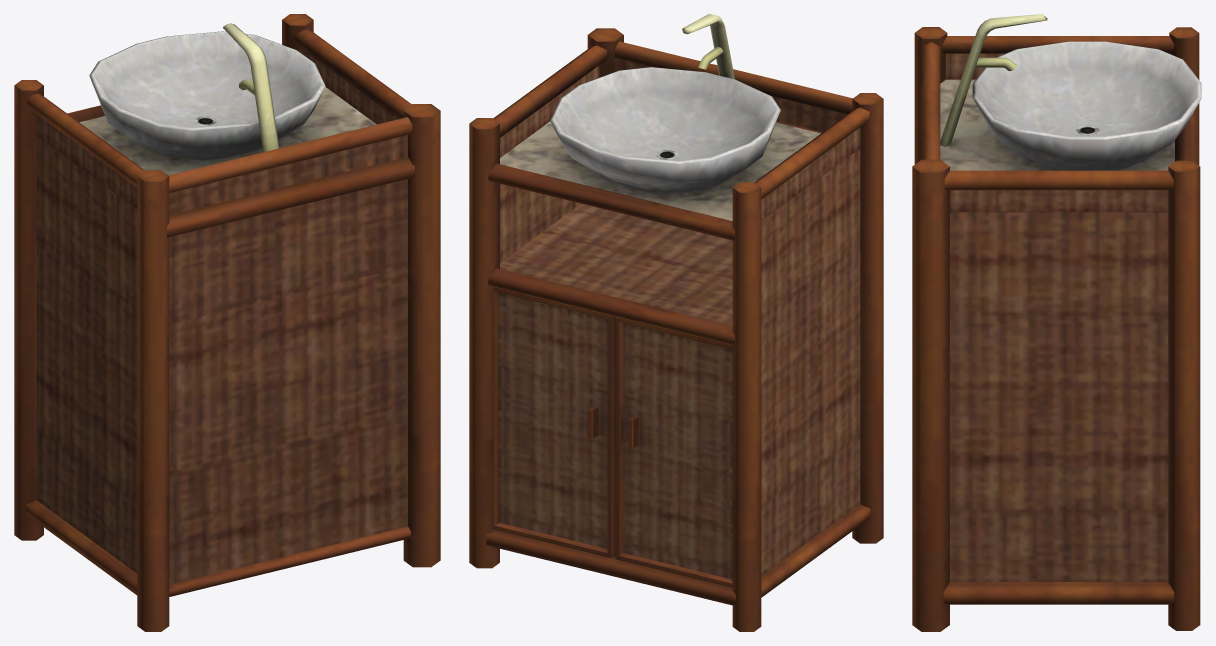
Rendered from furni_0200492.FBX.
3 renders of one model, left to right at view 1: azimuth 30°, elevation 25°; view 2: azimuth 150°, elevation 25°; view 3: azimuth 270°, elevation 25°, orthographic. The views are drawn at different scales.
Visible parts, largest first — view 1: furni_0200492; view 2: furni_0200492; view 3: furni_0200492.
Boxes of the visible parts, box(x1,y1,x2,y2) form: furni_0200492: box(14, 14, 440, 631); furni_0200492: box(469, 14, 883, 631); furni_0200492: box(912, 14, 1201, 631).
Size of the model in its own units: 54.84 by 94.37 by 45.8.
1 material, 1 textured.
